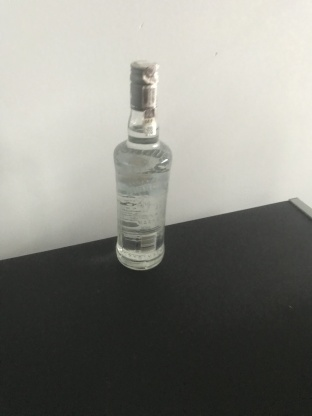nakretka: (128, 58, 160, 111)
